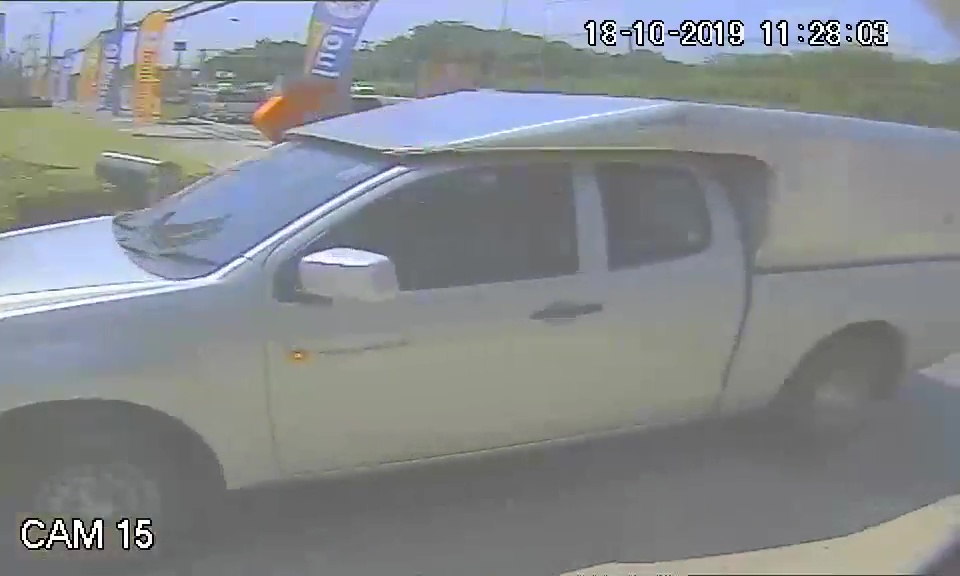pickup: (1, 88, 950, 498)
